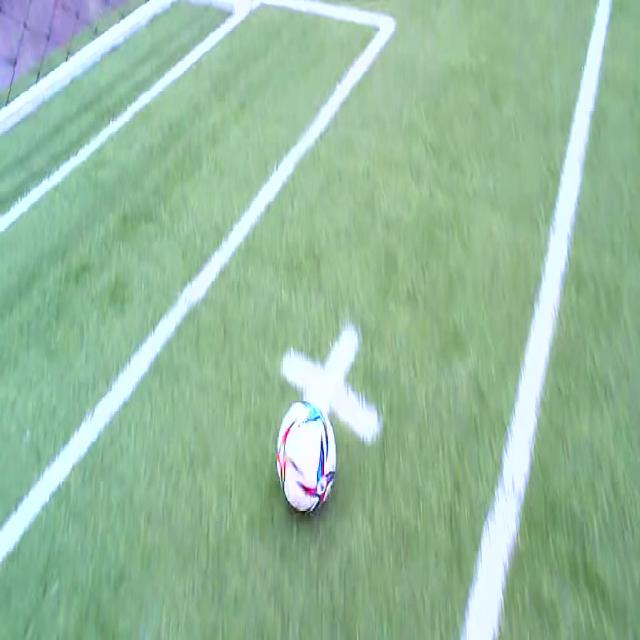ball: (277, 400, 335, 511)
